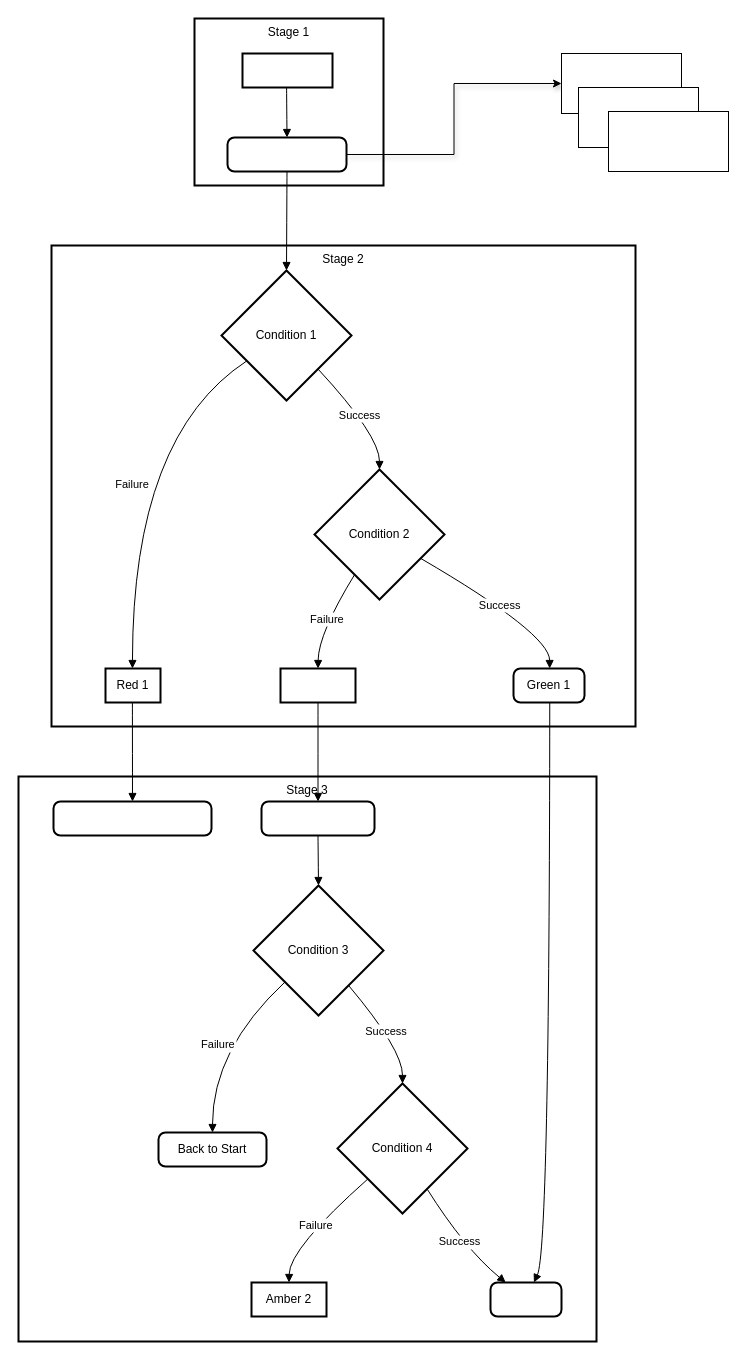
This 746x1359 diagram has some shape labels left out. The centre of each missing label's shape, as x and y in pixels:
Amber 1: point 317,685
Green 2: point 525,1299
Input Data: point 287,70
Manual Check: point 317,818
Manual Intervention: point 132,818
Pre-processing: point 286,154
